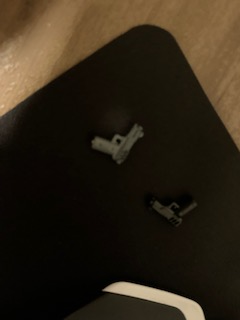pistol: (86, 114, 146, 168), (147, 188, 201, 227)
